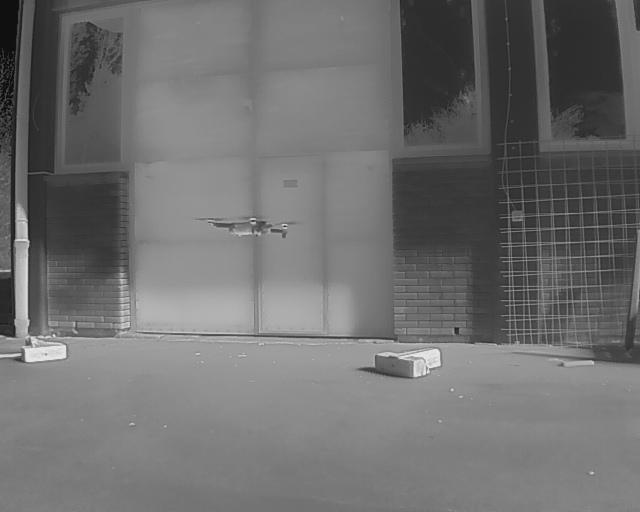drone: (192, 206, 306, 255)
